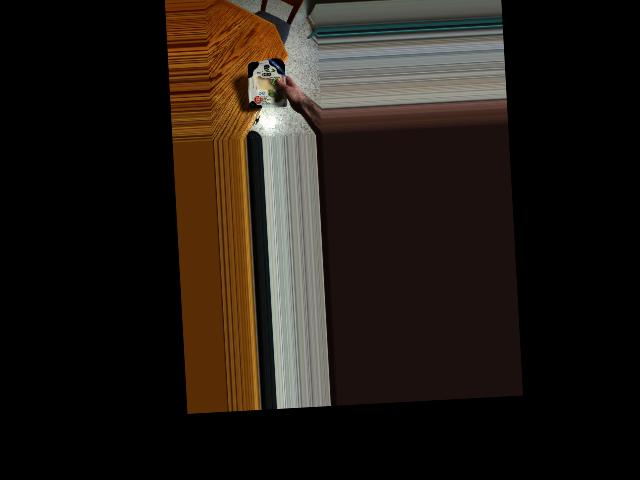cheese: (247, 57, 290, 111)
